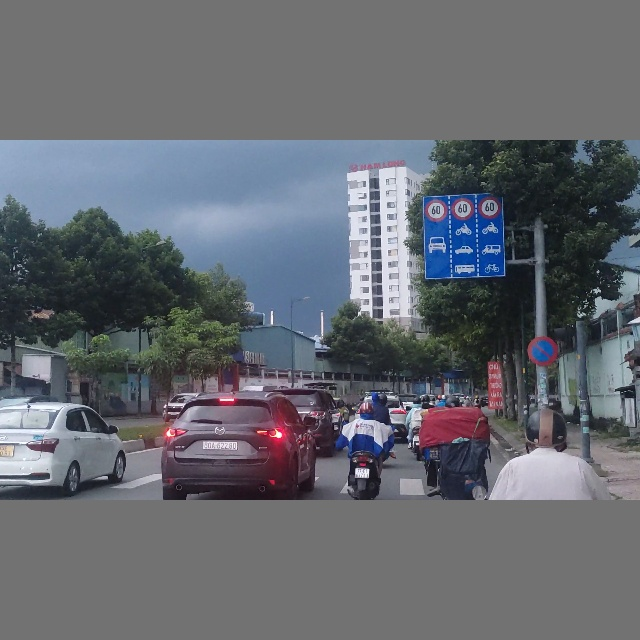P.127*60: (451, 198, 474, 220), (425, 200, 448, 221), (479, 197, 500, 219)
P.131a: (528, 336, 558, 365)
R.415a: (424, 220, 504, 279)
